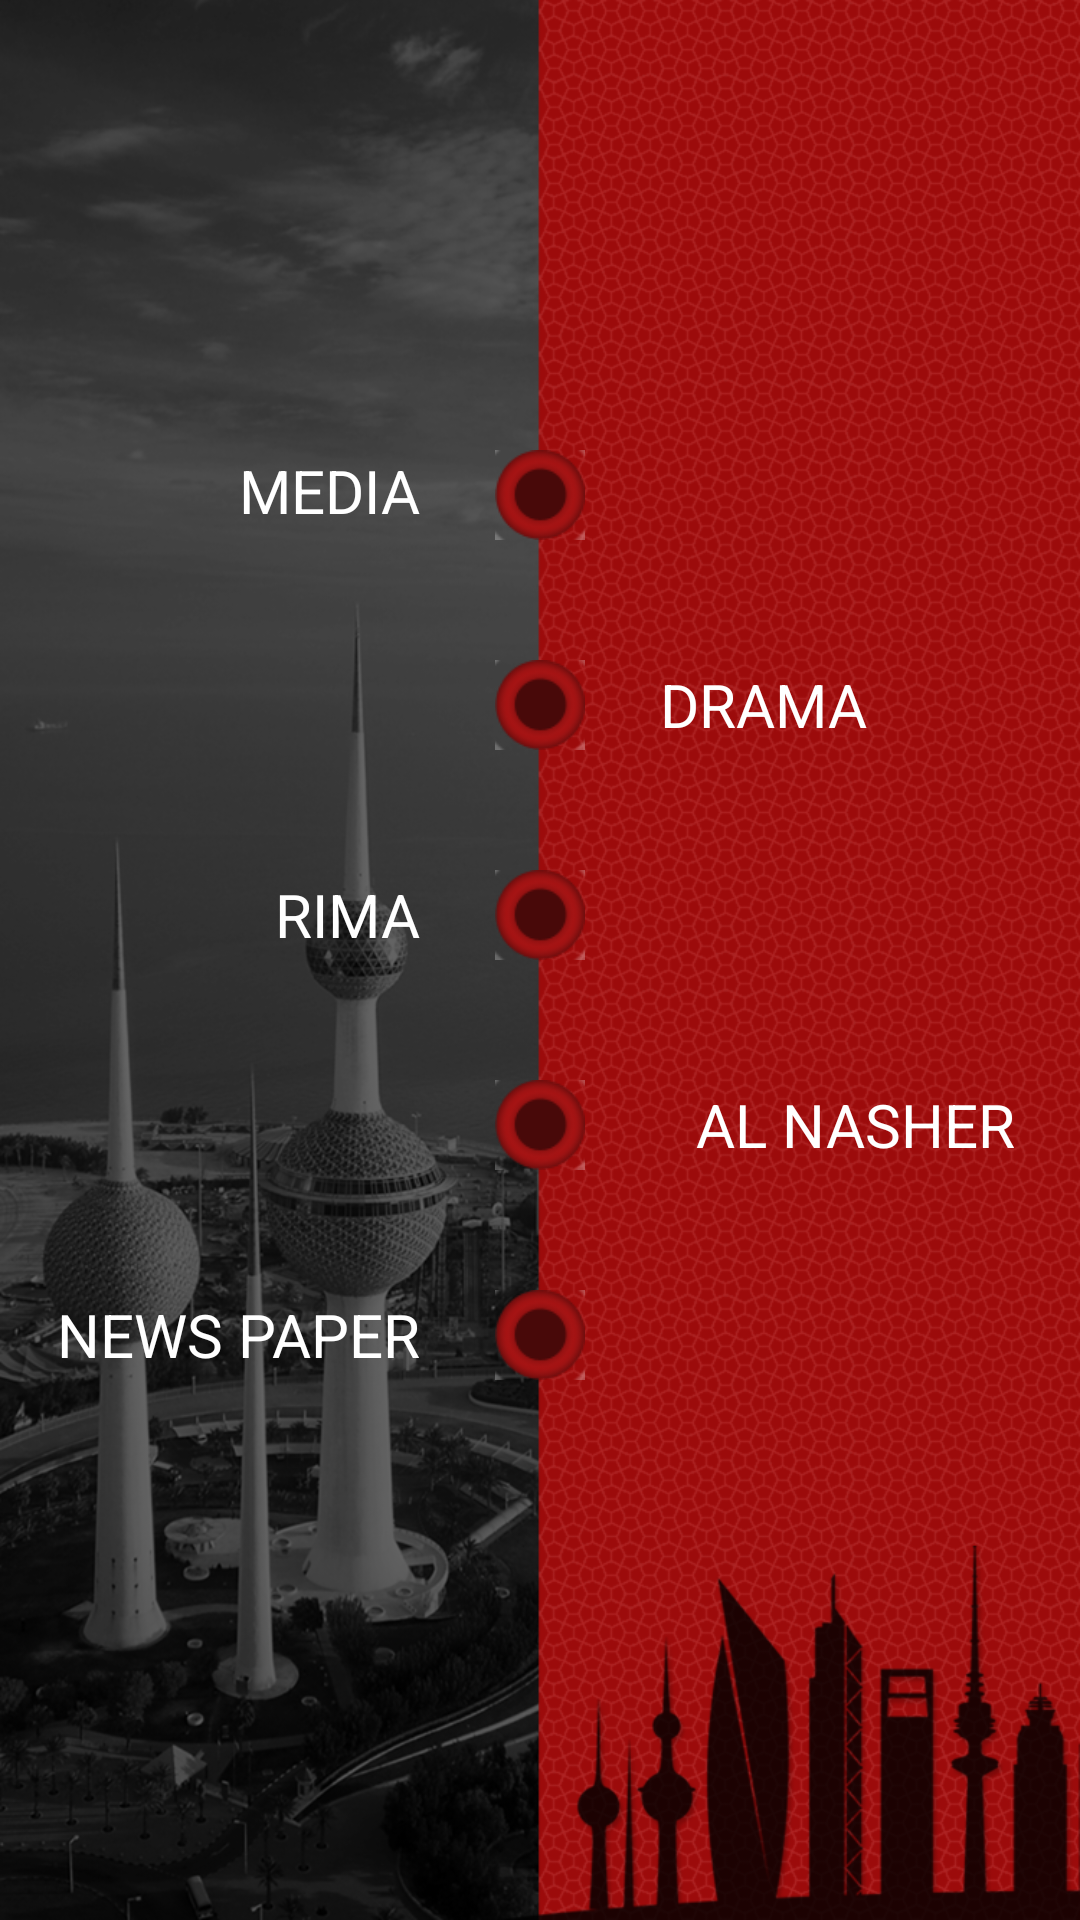

Icon click points for this 1080 x 1920 phone screenshot, format (x=x, y=y):
bullet: (x=540, y=495), (x=540, y=705), (x=540, y=915), (x=540, y=1125), (x=540, y=1335)
